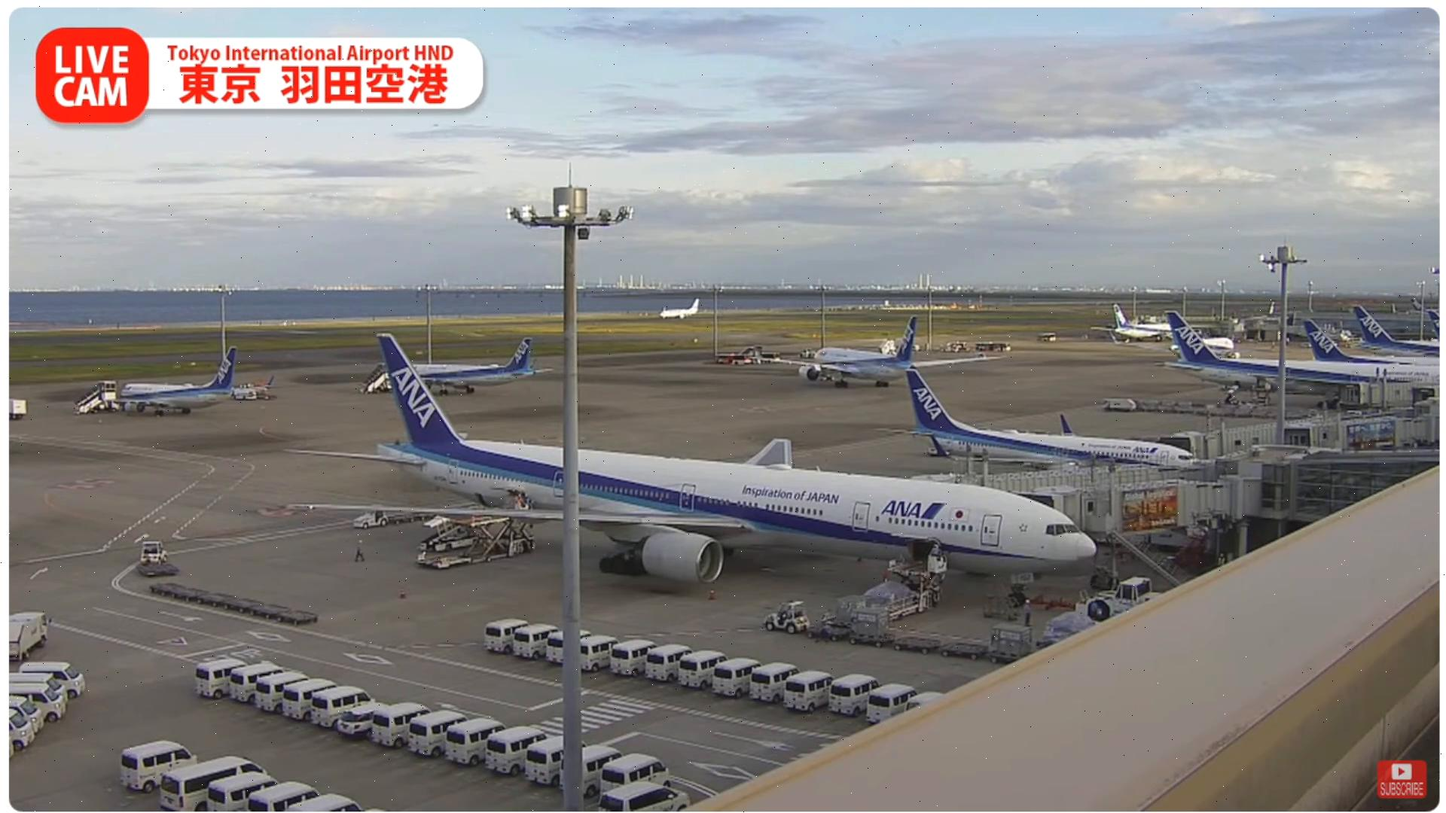APS: (1084, 573, 1173, 619)
Aerobridge: (937, 438, 1217, 490), (1025, 480, 1229, 535)
Airplane: (279, 328, 1098, 610)
Dolly: (143, 570, 321, 628), (811, 629, 1024, 667)
JCPL: (819, 558, 948, 629), (414, 511, 533, 568)
Skyloader: (417, 513, 486, 554)
Tractor: (761, 598, 813, 638), (131, 543, 160, 574)
Window: (1286, 455, 1435, 523)
